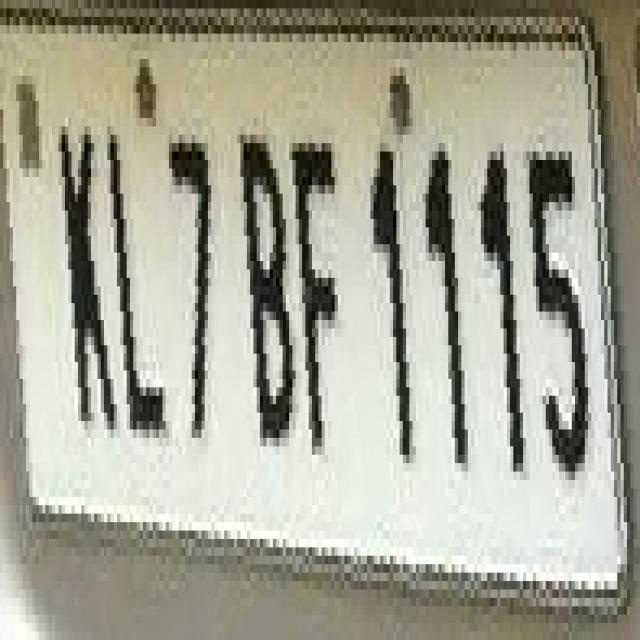license_plate: (10, 8, 598, 564)
